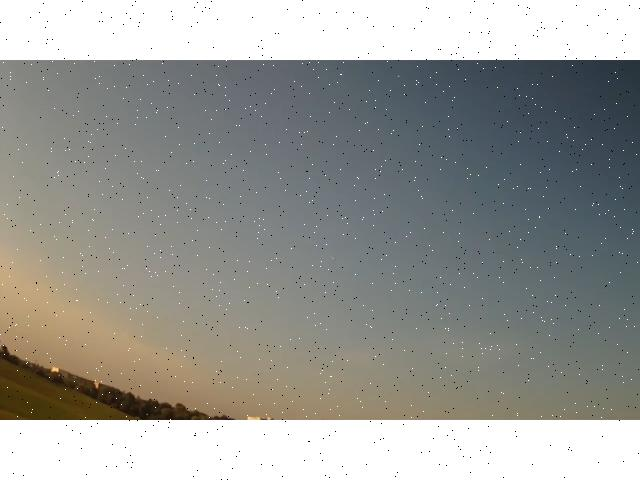Anti-Drone: (320, 249, 342, 265)
